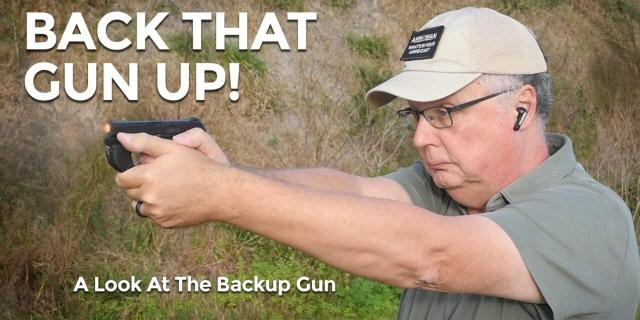handgun: (100, 115, 210, 175)
